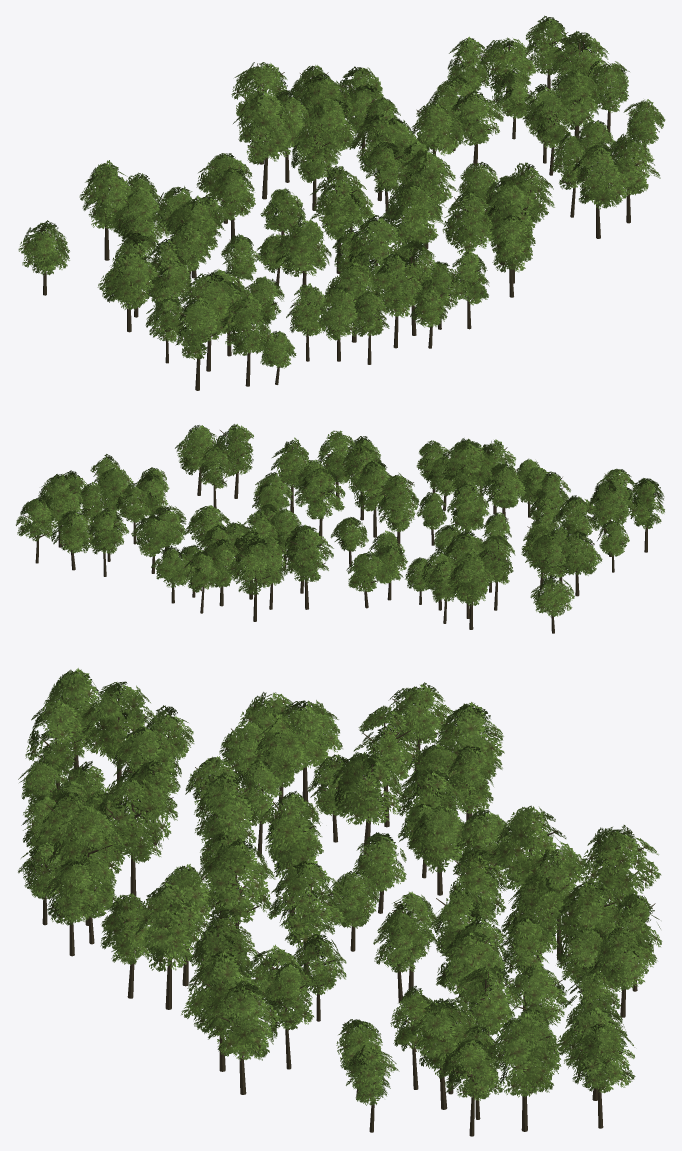
The model's file is TRB8-FOREST-CHUNK-6-4.glb.
3 views of the same model, one above another, from view 1: azimuth 30°, elevation 25°; view 2: azimuth 150°, elevation 25°; view 3: azimuth 270°, elevation 25° (orthographic). The views are drawn at different scales.
Visible parts, largest first — view 1: TRB8-FOREST-CHUNK-6-4; view 2: TRB8-FOREST-CHUNK-6-4; view 3: TRB8-FOREST-CHUNK-6-4.
Boxes of the visible parts, x1=… form: TRB8-FOREST-CHUNK-6-4: x1=18, y1=15, x2=665, y2=390; TRB8-FOREST-CHUNK-6-4: x1=16, y1=424, x2=664, y2=633; TRB8-FOREST-CHUNK-6-4: x1=18, y1=668, x2=662, y2=1136.
Size of the model in its own units: 38.29 by 6.53 by 27.03.
2 materials, 1 textured.
